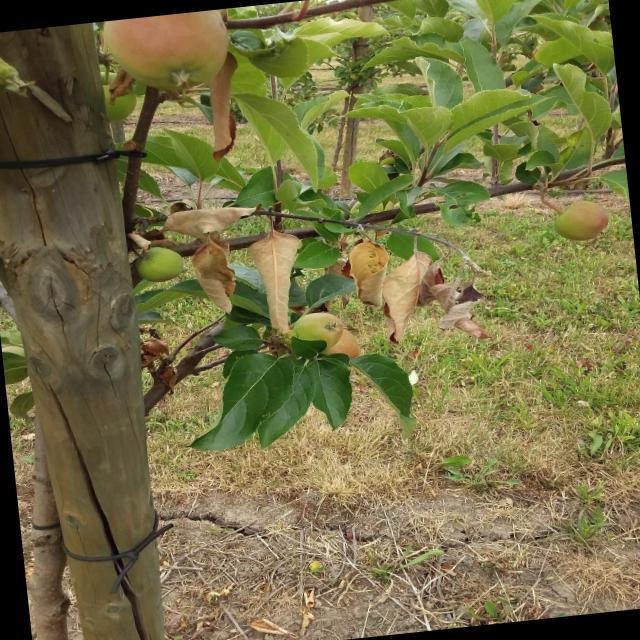-FireBlight-: (326, 200, 487, 360), (154, 190, 261, 326), (225, 185, 308, 343)
